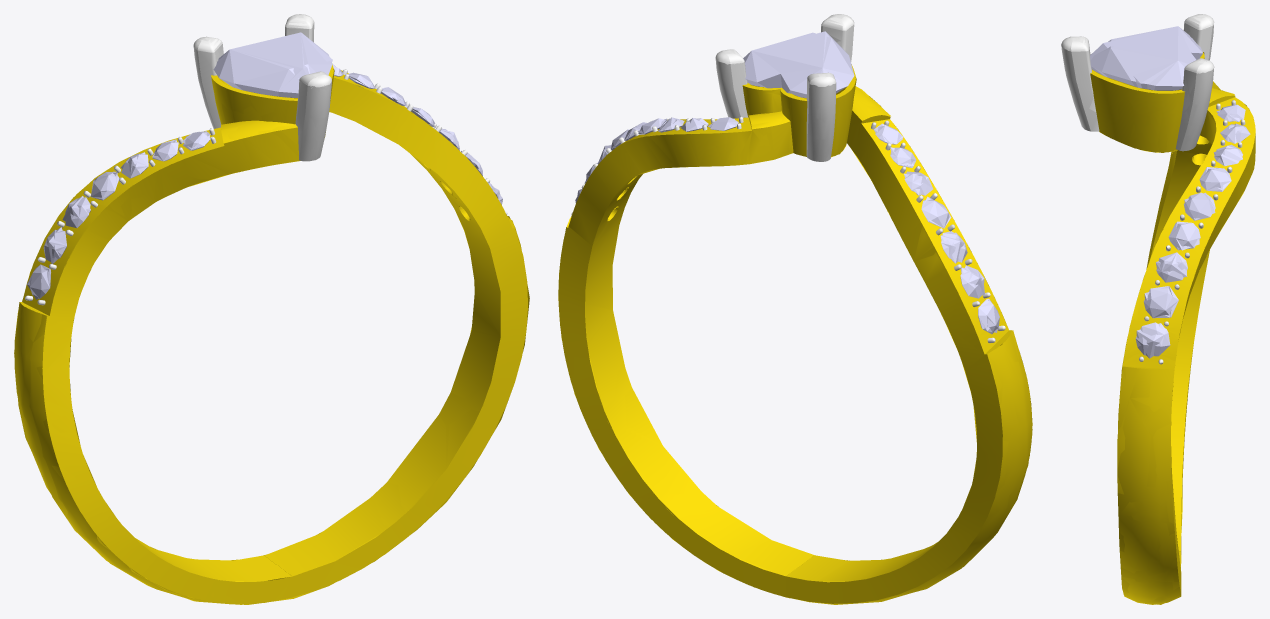
The model's file is DLR-D000679370.glb.
The picture shows the model from 3 angles, left to right: view 1: azimuth 30°, elevation 25°; view 2: azimuth 150°, elevation 25°; view 3: azimuth 270°, elevation 25°; orthographic projection.
Parts seen in each view (by area): view 1: lowPolyMesh, highPolyMesh; view 2: lowPolyMesh, highPolyMesh; view 3: highPolyMesh, lowPolyMesh.
Boxes of the visible parts, bbox=[...] form: lowPolyMesh: bbox=[14, 14, 529, 604]; highPolyMesh: bbox=[14, 14, 521, 604]; lowPolyMesh: bbox=[558, 14, 1032, 603]; highPolyMesh: bbox=[558, 14, 1032, 604]; highPolyMesh: bbox=[1061, 14, 1255, 604]; lowPolyMesh: bbox=[1061, 14, 1255, 604].
Bounding box in the file's own units: 0.0192 × 0.021 × 0.00685.
